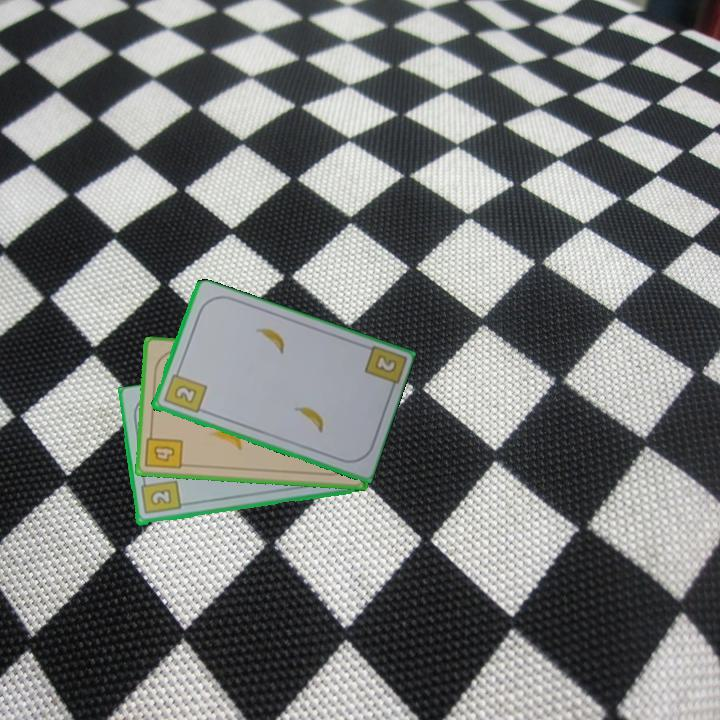2b: (160, 365, 209, 416), (137, 475, 183, 517), (373, 353, 397, 374)
4b: (142, 427, 185, 472)
